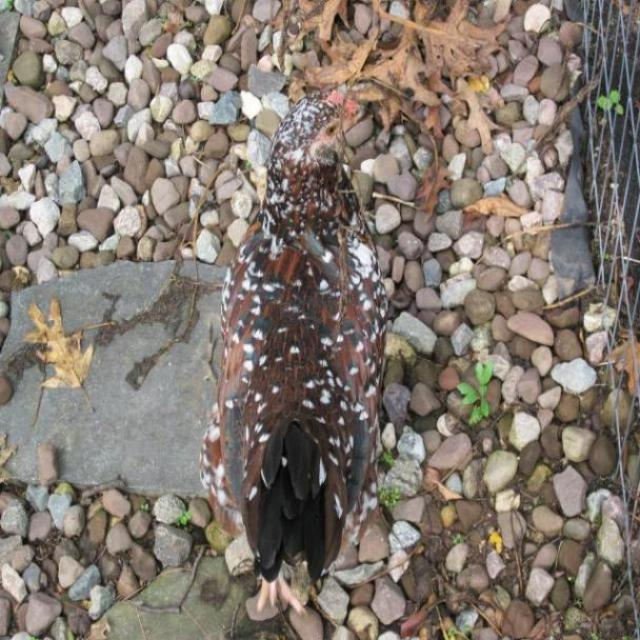Chicken: (199, 94, 386, 568)
